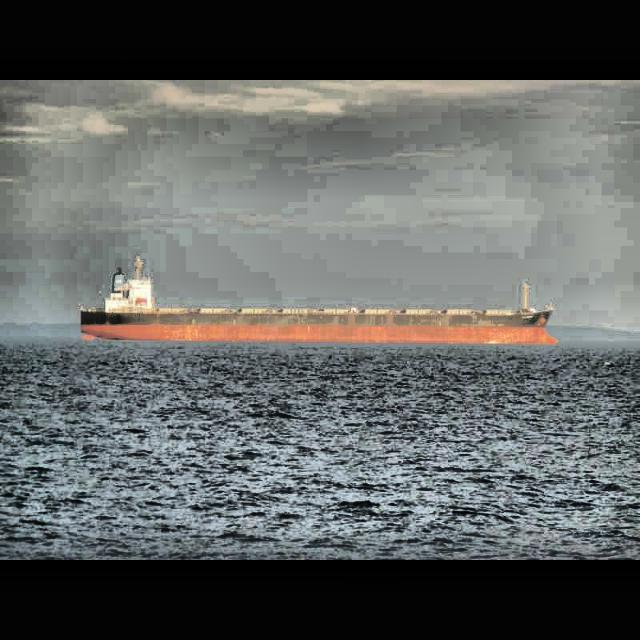bulk_carrier: (79, 254, 559, 346)
